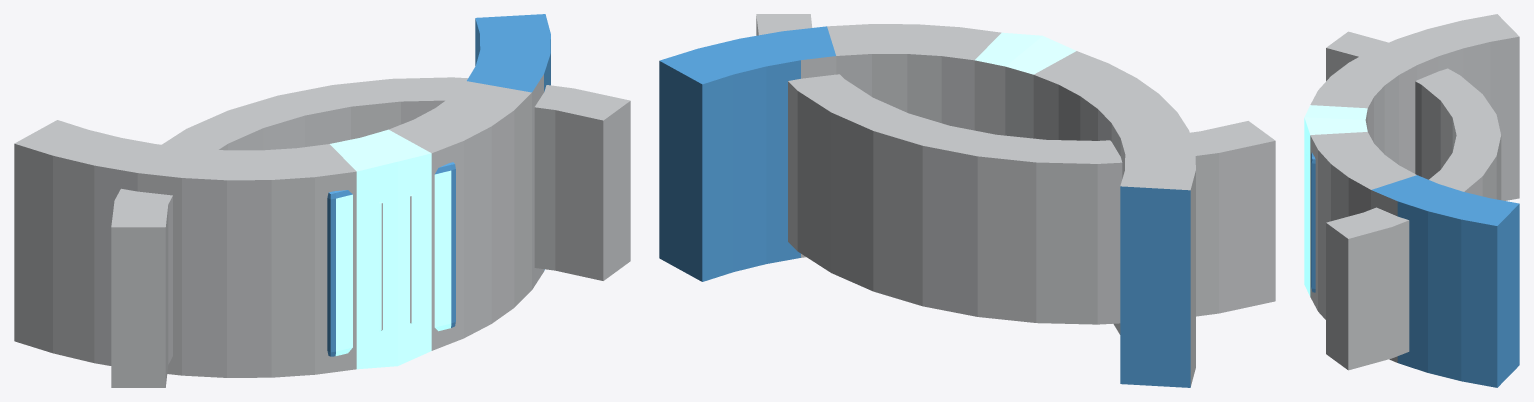
File: waist__base.glb
3 views of the same model, side by side, from view 1: azimuth 30°, elevation 25°; view 2: azimuth 150°, elevation 25°; view 3: azimuth 270°, elevation 25° (orthographic). The views are drawn at different scales.
Parts seen in each view (by area): view 1: armor_waist__base_v001; view 2: armor_waist__base_v001; view 3: armor_waist__base_v001.
Boxes of the visible parts, <box> form: armor_waist__base_v001: <box>14,14,630,387</box>; armor_waist__base_v001: <box>659,14,1275,387</box>; armor_waist__base_v001: <box>1304,14,1519,387</box>.
Size of the model in its own units: 0.45 by 0.1655 by 0.1929.
